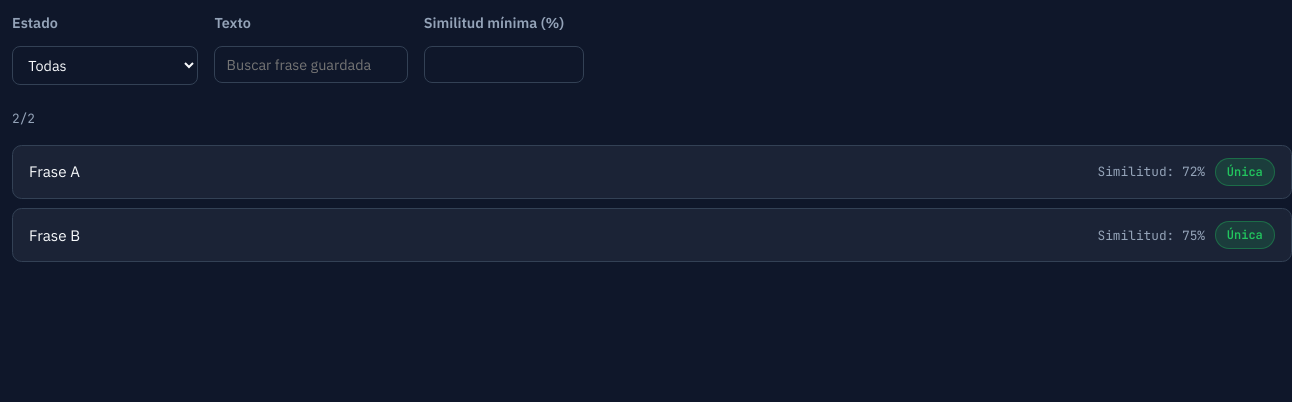
Test case: PhraseList › compare with the matched phrase › expanding a different item's panel collapses the previous one
Click the button named "Comparar": x=1151, y=172 1098,162 -> 1205,181
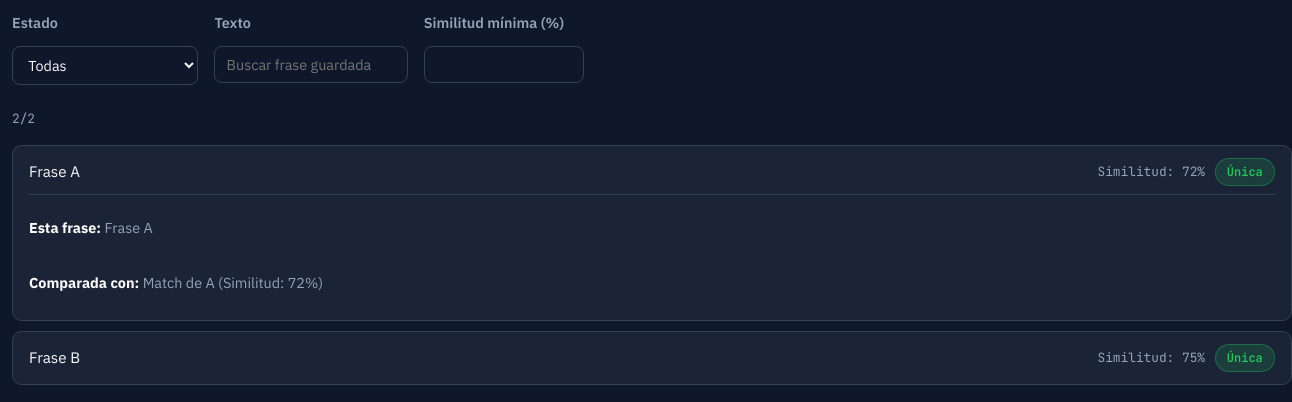
Check: the text "Match de A" is shown, box 143,273 -> 215,292
Click the button named "Comparar": x=1151, y=358 1098,348 -> 1205,367
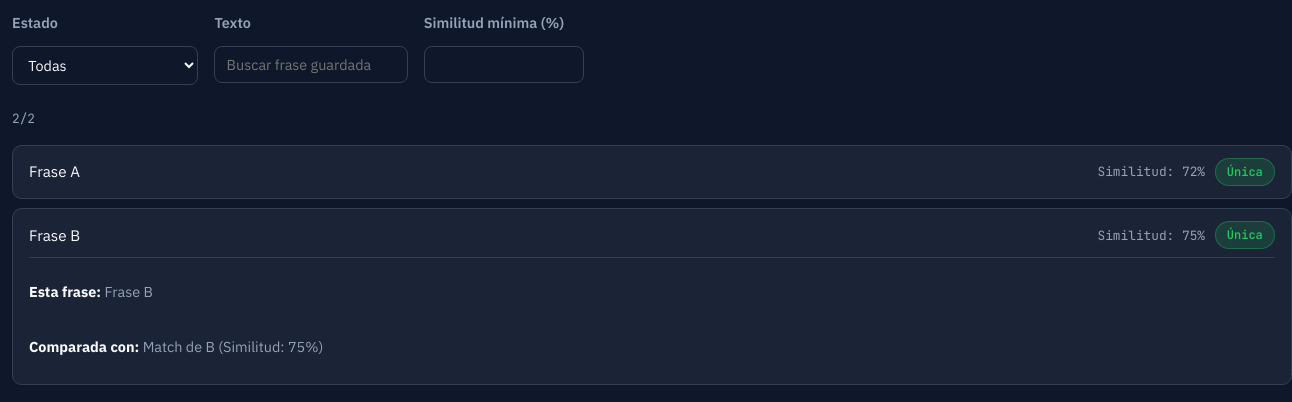
Check: the text "Match de B" is shown, box 143,337 -> 215,356
Check: the text "Match de A" is gone
